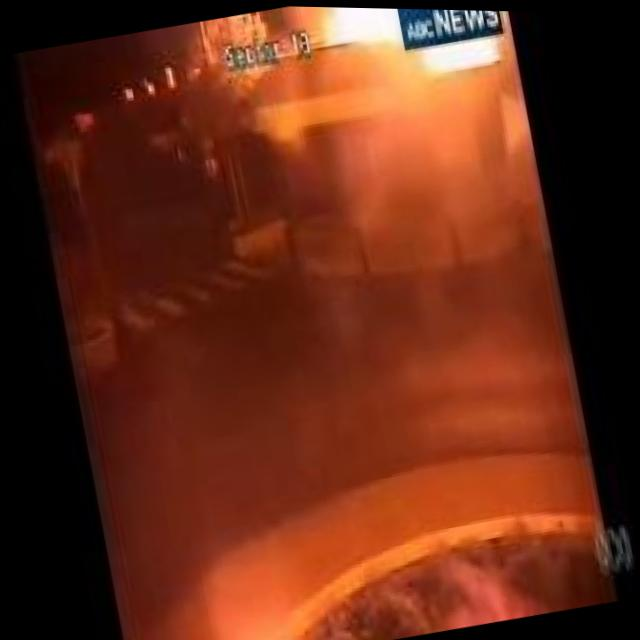fire: (313, 5, 406, 78), (416, 26, 513, 82)
